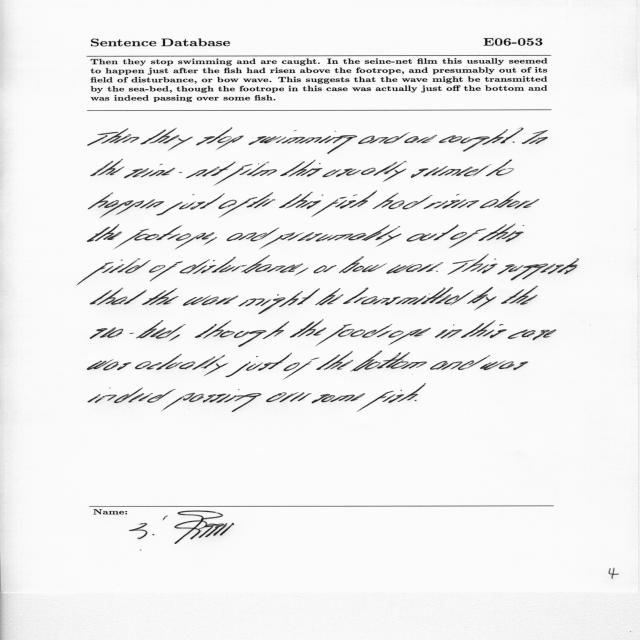word: (260, 225, 402, 249), (249, 130, 358, 154), (195, 320, 289, 347), (316, 324, 431, 346), (115, 225, 215, 249), (343, 287, 474, 305), (180, 255, 303, 274), (162, 389, 261, 412), (238, 288, 320, 314), (135, 354, 229, 376), (439, 128, 523, 152), (77, 258, 151, 285), (357, 384, 426, 412), (88, 193, 164, 218), (124, 162, 235, 179), (90, 320, 186, 339), (498, 259, 579, 281), (323, 161, 407, 182), (312, 191, 378, 217), (225, 353, 292, 377), (156, 193, 225, 216), (350, 351, 427, 371), (215, 162, 277, 185), (219, 193, 276, 218), (88, 388, 176, 403), (140, 128, 193, 151), (411, 164, 492, 178), (480, 191, 539, 209), (196, 128, 244, 150), (448, 254, 498, 275), (373, 193, 433, 210), (90, 288, 147, 305), (88, 128, 140, 146), (407, 224, 459, 242), (430, 355, 490, 370), (478, 223, 524, 242), (424, 194, 480, 209), (461, 320, 507, 338), (339, 256, 387, 273), (279, 191, 324, 209), (284, 358, 320, 379), (449, 229, 486, 249), (280, 160, 323, 177), (501, 286, 538, 305), (317, 351, 354, 370), (386, 262, 443, 274), (290, 319, 326, 338), (149, 262, 183, 282), (227, 228, 279, 241), (467, 287, 496, 310), (87, 224, 122, 242), (142, 288, 179, 305), (358, 132, 410, 144), (183, 295, 238, 306), (91, 159, 125, 176), (312, 393, 365, 403), (508, 329, 556, 340), (88, 360, 132, 371), (480, 360, 528, 370), (486, 160, 514, 177), (315, 288, 343, 305), (266, 393, 312, 403), (435, 324, 462, 339), (522, 130, 548, 144), (404, 135, 437, 143), (314, 265, 336, 273), (295, 268, 308, 276), (205, 237, 217, 245), (169, 334, 180, 341), (513, 141, 515, 143), (414, 400, 417, 401), (436, 271, 438, 272)
